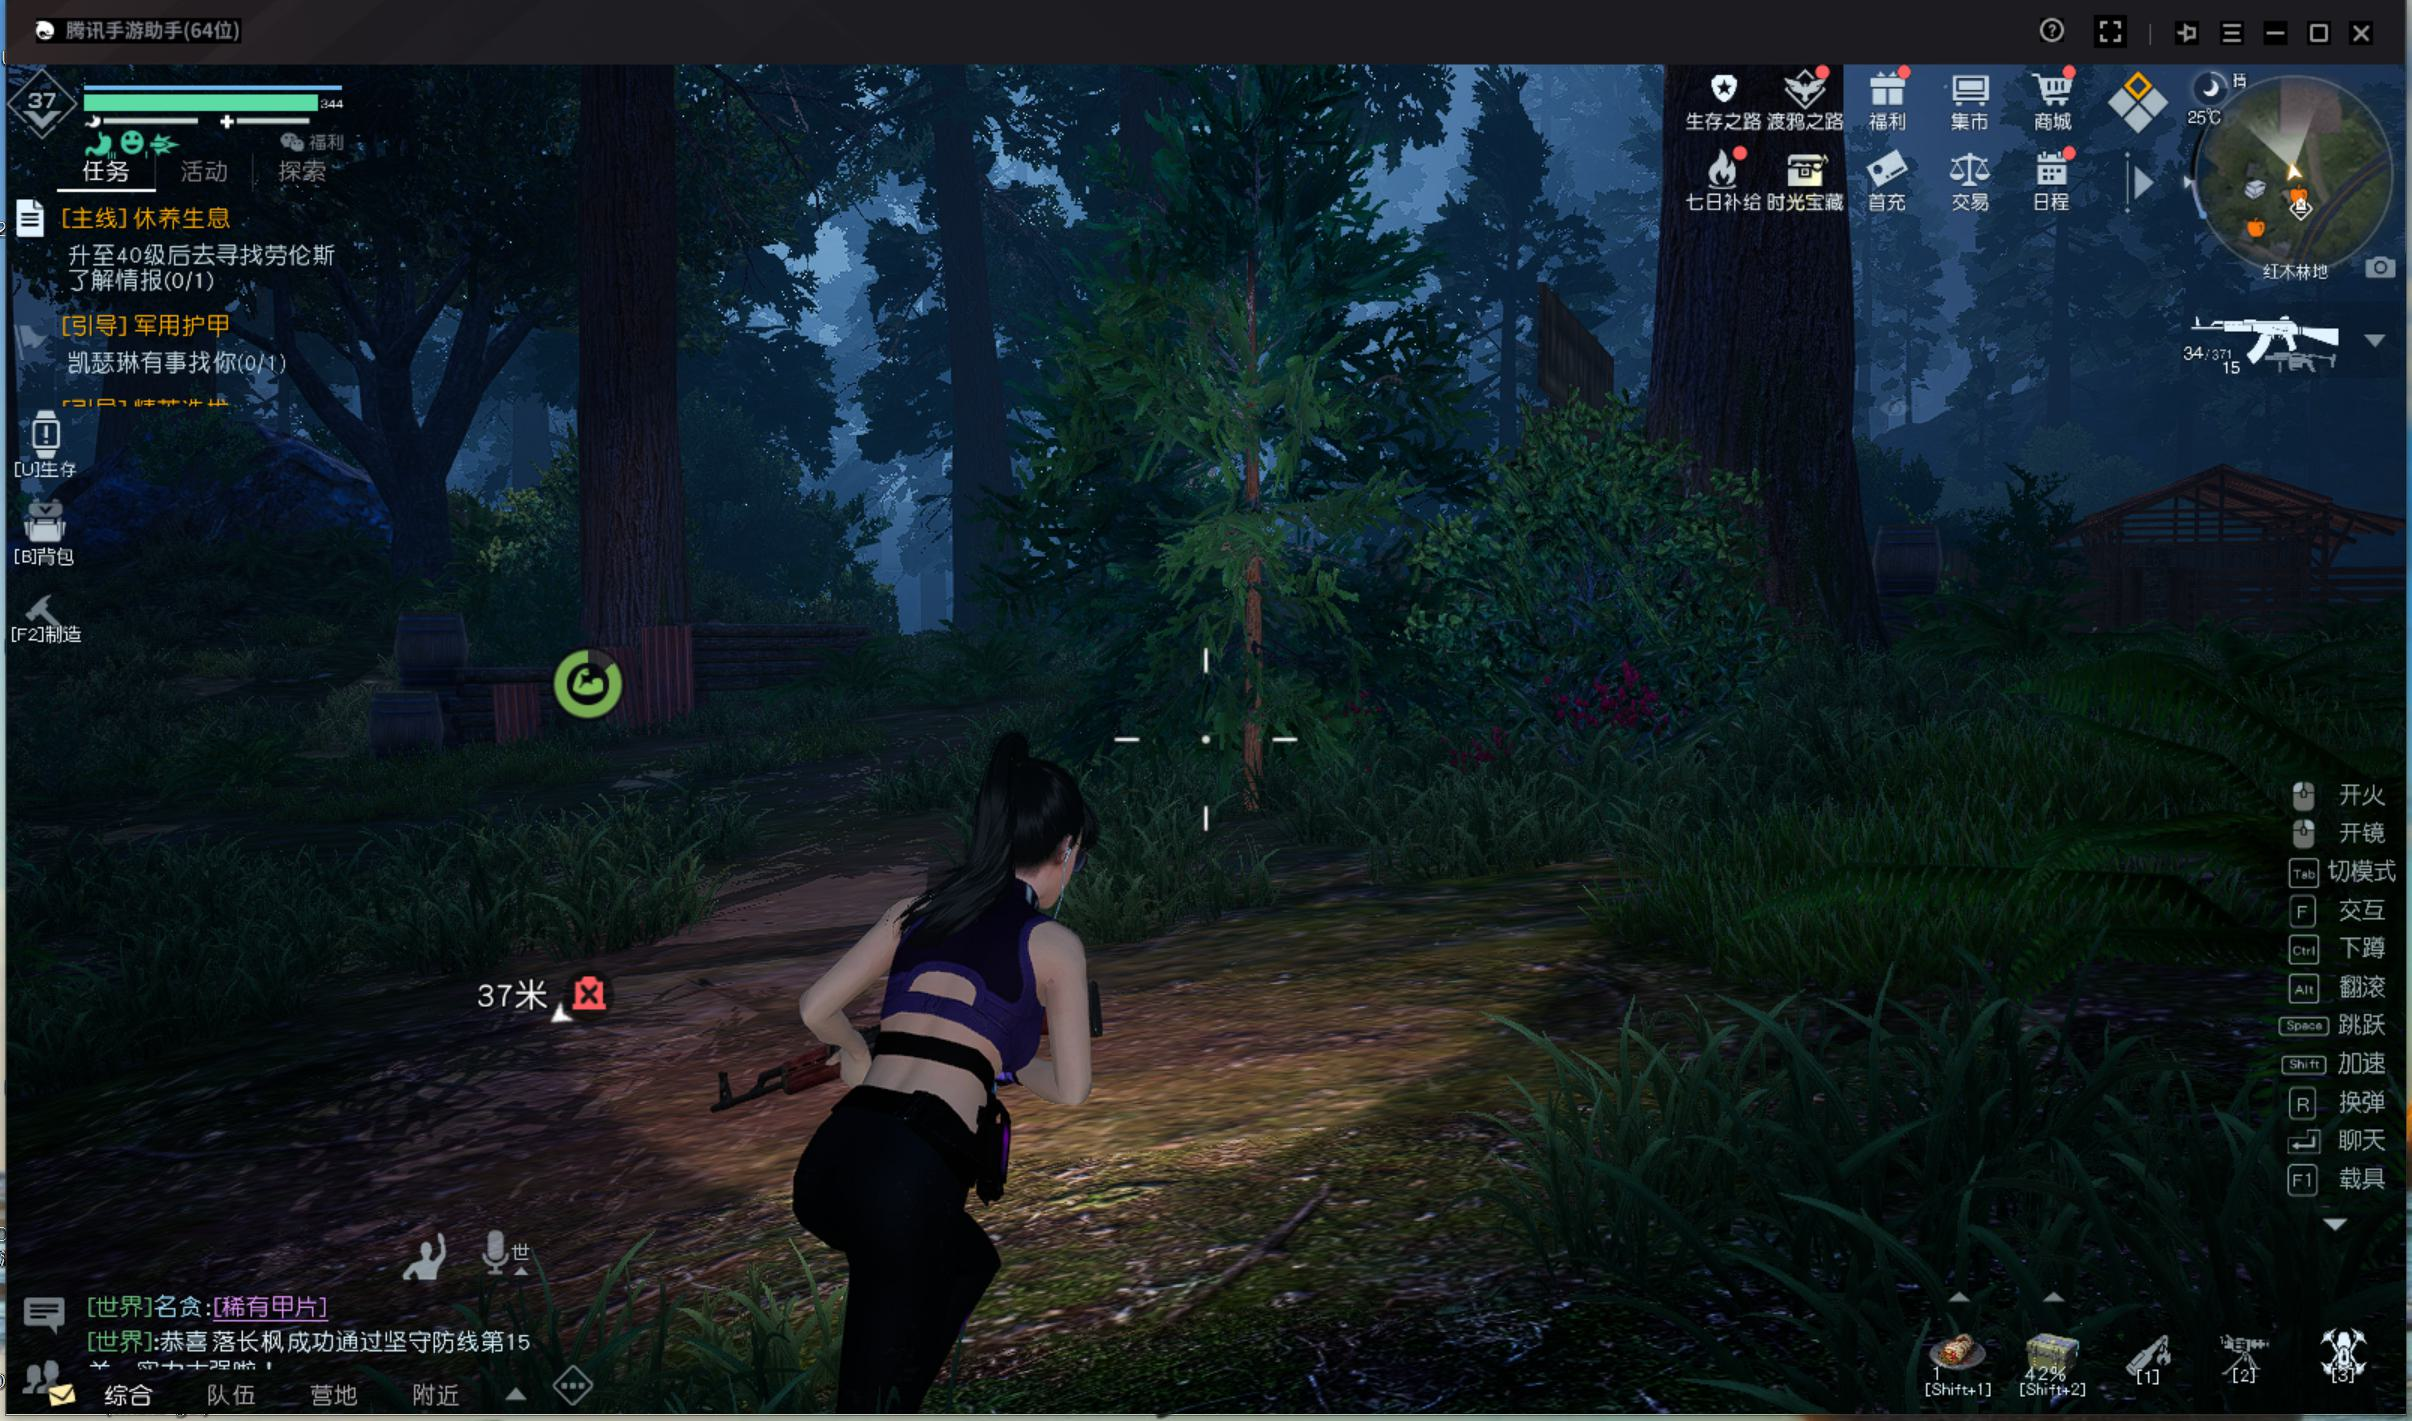tree: (1637, 107, 1893, 687), (556, 311, 714, 741), (924, 208, 1035, 709)
